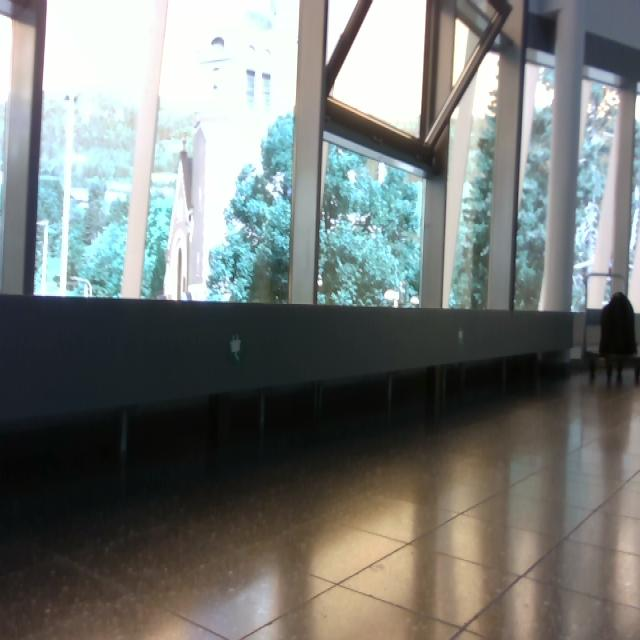door: (2, 1, 639, 637)
light bulb: (534, 80, 554, 113), (365, 158, 388, 185), (230, 333, 242, 361), (384, 289, 400, 306), (347, 169, 357, 184), (410, 296, 420, 306)
pillar: (538, 2, 585, 312), (288, 1, 329, 305)
tiled floor: (2, 365, 639, 638)
window: (1, 1, 640, 314)
